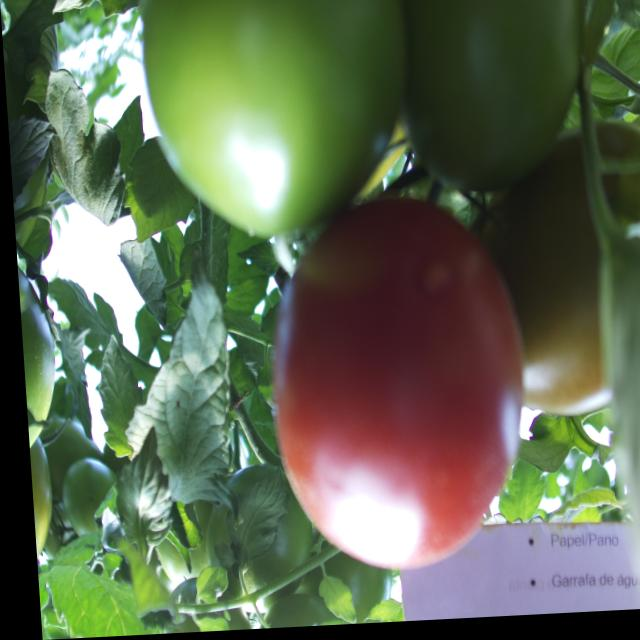kirmizi: (268, 211, 545, 564)
